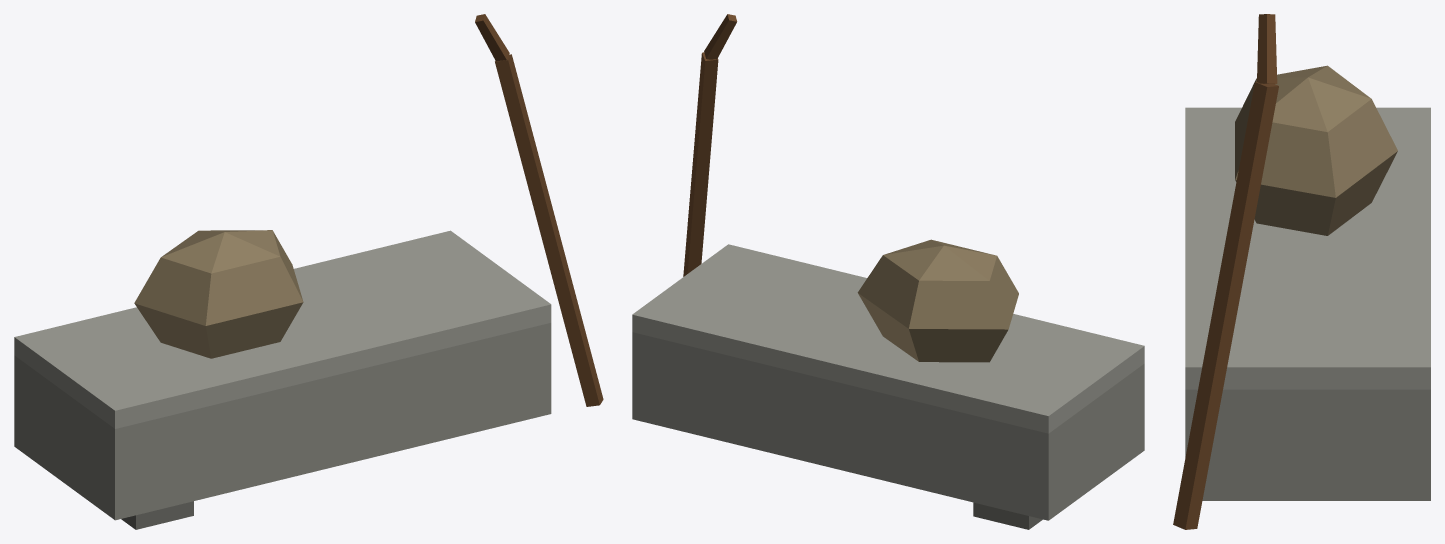
File: a1r_wayside_rest.glb
3 views of the same model, side by side, from view 1: azimuth 30°, elevation 25°; view 2: azimuth 150°, elevation 25°; view 3: azimuth 270°, elevation 25° (orthographic). The views are drawn at different scales.
Parts seen in each view (by area): view 1: a1r_wayside_rest; view 2: a1r_wayside_rest; view 3: a1r_wayside_rest.
Boxes of the visible parts, left/top/right/bottom form: a1r_wayside_rest: left=14, top=14, right=603, bottom=529; a1r_wayside_rest: left=632, top=14, right=1144, bottom=529; a1r_wayside_rest: left=1173, top=14, right=1430, bottom=529.
Size of the model in its own units: 1.68 by 1.33 by 0.6295.
